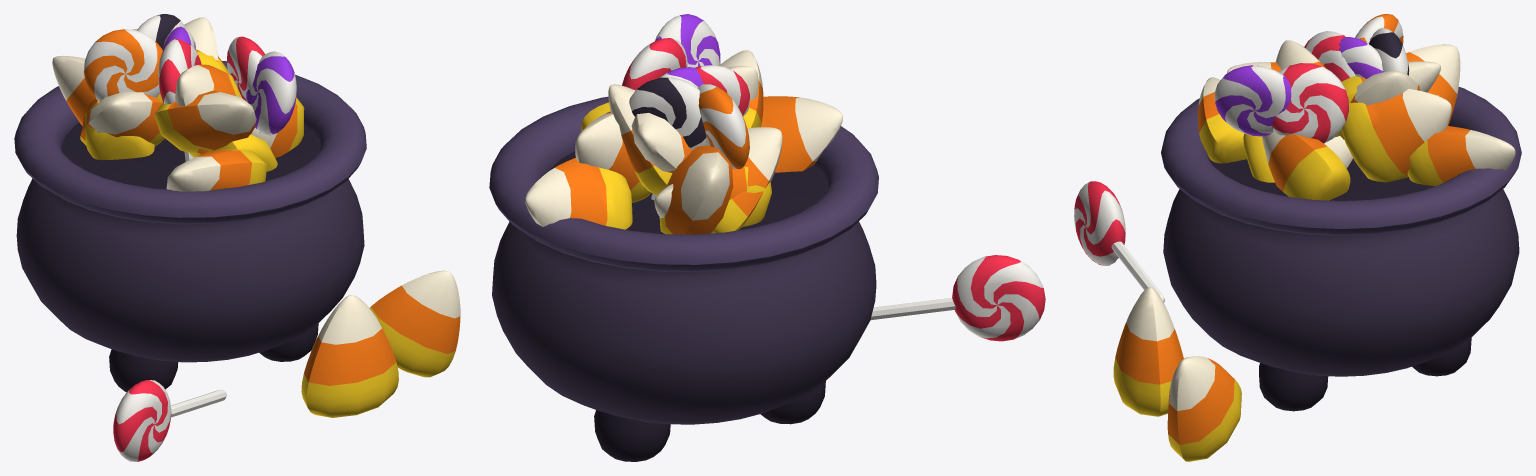
File: CandyCauldron.fbx
3 views of the same model, side by side, from view 1: azimuth 30°, elevation 25°; view 2: azimuth 150°, elevation 25°; view 3: azimuth 270°, elevation 25° (orthographic). The views are drawn at different scales.
Parts seen in each view (by area): view 1: CandyCauldron; view 2: CandyCauldron; view 3: CandyCauldron.
Boxes of the visible parts, x1,y1,x2,y2 form: CandyCauldron: [14, 14, 460, 461]; CandyCauldron: [489, 14, 1045, 461]; CandyCauldron: [1074, 14, 1521, 461].
Size of the model in its own units: 266 by 216 by 258.
Materials: 1 (1 with a texture image).
